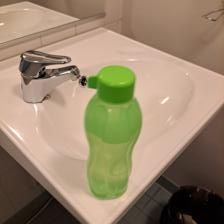bottle: (82, 64, 140, 201)
